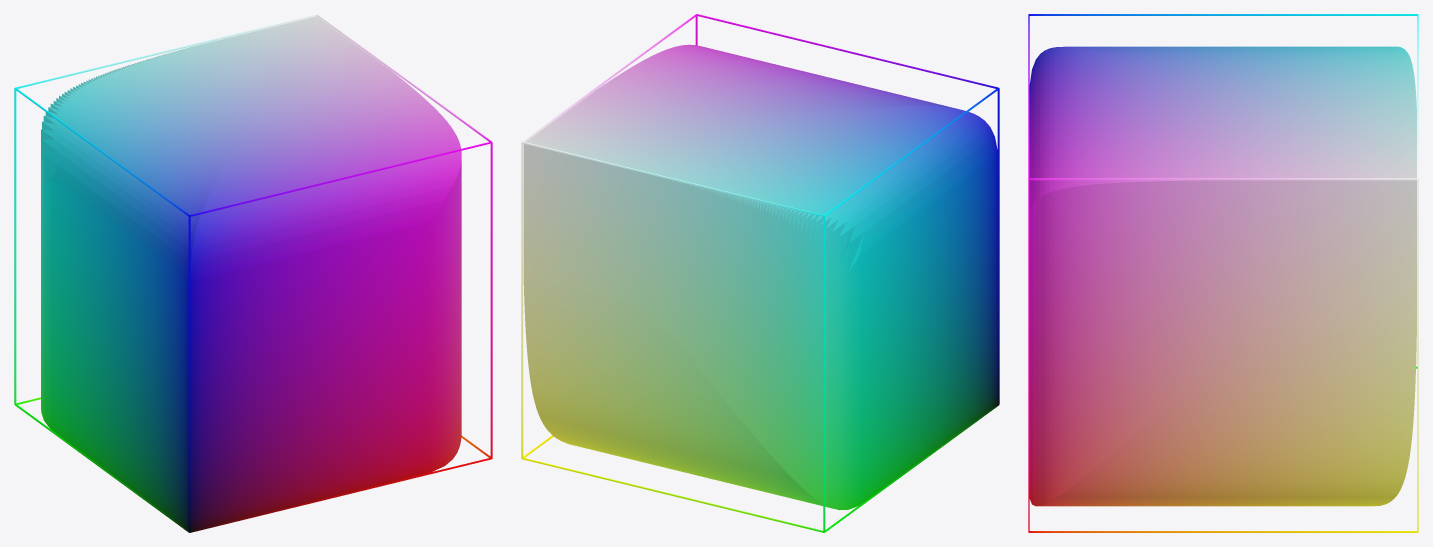
File: CommerceSet.glb
3 views of the same model, side by side, from view 1: azimuth 30°, elevation 25°; view 2: azimuth 150°, elevation 25°; view 3: azimuth 270°, elevation 25° (orthographic). The views are drawn at different scales.
Visible parts, largest first — view 1: wrapper; view 2: wrapper; view 3: wrapper.
Part boxes in pixels (bbox=[...]): wrapper: bbox=[14, 14, 492, 532]; wrapper: bbox=[521, 14, 999, 532]; wrapper: bbox=[1028, 14, 1418, 532].
Bounding box in the file's own units: 0.001 × 0.001 × 0.001.
